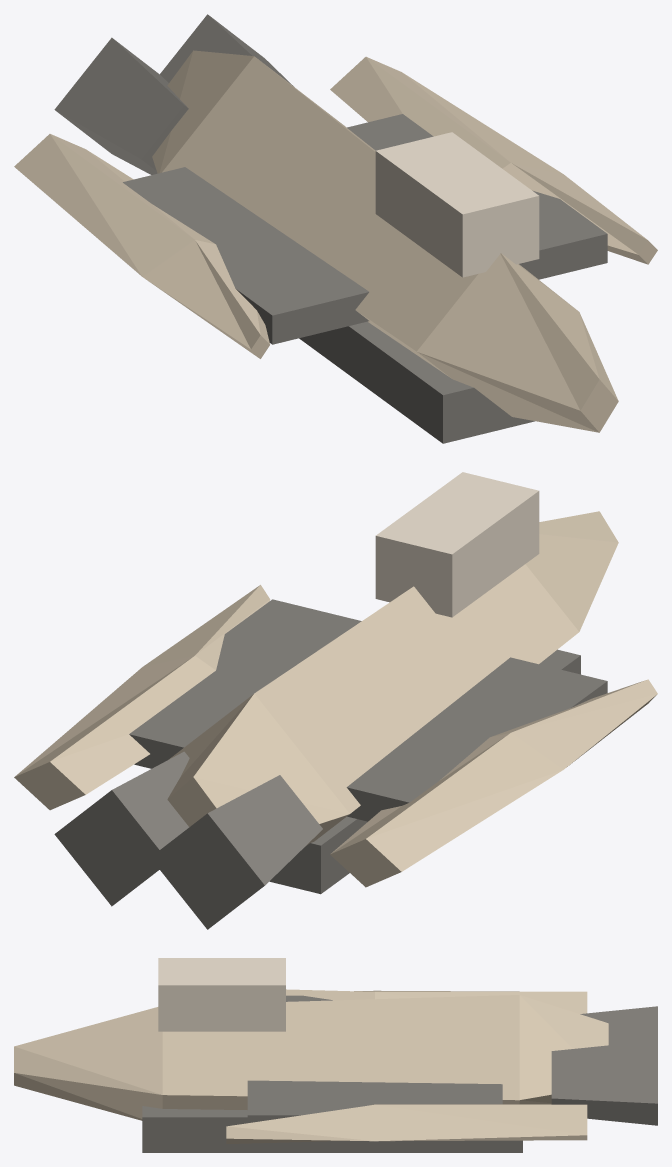
3 views of the same model, one above another, from view 1: azimuth 30°, elevation 25°; view 2: azimuth 150°, elevation 25°; view 3: azimuth 270°, elevation 25° (orthographic). The views are drawn at different scales.
Size of the model in its own units: 3.52 by 1.8 by 6.37.
